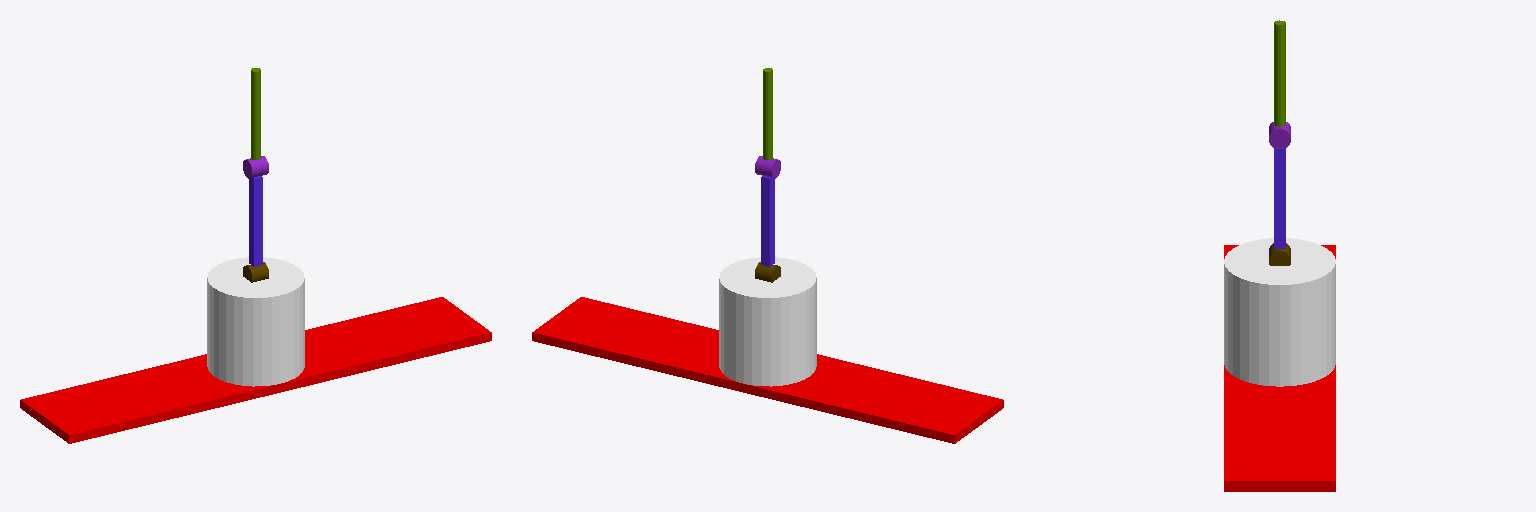
robot.urdf — pi_robot:
<?xml version="1.0"?>

<robot name="pi_robot">

	<!-- * * * Link Definitions * * * -->

 	<link name="base_link">
		<visual>
		    <origin xyz="0 0 0" rpy="0 0 0"/>
			<geometry>
				<box size="5 1 0.1"/>
			</geometry>
			<material name="Cyan1">
	       		<color rgba="1 0 0 1.0"/>
	     	</material>
		</visual>	
	</link>
	
 	<link name="ana_govde_link">
		<visual>
		    <origin xyz="0 0 0.05" rpy="0 0 0"/>
			<geometry>
				<cylinder radius="0.5" length="1"/>
			</geometry>
			<material name="Red">
	       		<color rgba="1 1 1 1.0"/>
	     	</material>
		</visual>	
	</link>
	
	 <link name="donme1_link">
		<visual>
		    <origin xyz="0 0 0" rpy="0 0 0"/>
			<geometry>
				<cylinder radius="0.1" length="0.2"/>
			</geometry>
			<material name="Red">
	       		<color rgba="0.4 0.3 0 1.0"/>
	     	</material>
		</visual>	
	</link>
	
	
	
	<link name="alt_kol_link">
		<visual>
		    <origin xyz="0 0 0" rpy="0 0 0"/>
			<geometry>
				<box size="0.1 0.1 1"/>
			</geometry>
			<material name="Blue">
	       		<color rgba="0.4 0.2 1 1.0"/>
	     	</material>
		</visual>	
	</link>
	
	<link name="donme2_link">
		<visual>
		    <origin xyz="0 0 0" rpy="0 0 0"/>
			<geometry>
				<cylinder radius="0.1" length="0.2"/>
			</geometry>
			<material name="Red">
	       		<color rgba="0.6 0.21 0.8 1.0"/>
	     	</material>
		</visual>	
	</link>
	

  	<link name="ust_kol_link">
		<visual>
			<origin xyz="0 0 0" rpy="0 0 1"/>
			<geometry>
				<cylinder radius="0.05" length="1"/>
			</geometry>
	     	<material name="Green">
				<color rgba="0.4 0.6 0 0"/>
			</material>
	   </visual>
	</link>

	
	<!-- * * * Joint Definitions * * * -->
	
	<joint name="ana_govde_joint" type="prismatic">
    	<parent link="base_link"/>
    	<child link="ana_govde_link"/>
    	<origin xyz="0 0 0.5" rpy="0 0 0"/>
		<axis xyz="1 0 0"/>
		<limit lower="-3.1416" upper="3.1416" effort="10" velocity="3"/>
	</joint>
	
	<joint name="donme1_joint" type="revolute">
    	<parent link="ana_govde_link"/>
    	<child link="donme1_link"/>
    	<origin xyz="0 0 0.6" rpy="0 1.57 0"/>
		<axis xyz="0 0 1"/>
		<limit lower="-3.1416" upper="3.1416" effort="10" velocity="3"/>
	</joint>

	<joint name="alt_kol_joint" type="fixed">
    	<parent link="donme1_link"/>
    	<child link="alt_kol_link"/>
    	<origin xyz="-0.6 0 0" rpy="0 -1.57 0"/>	
	</joint>
	
	<joint name="donme2_joint" type="revolute">
    	<parent link="alt_kol_link"/>
    	<child link="donme2_link"/>
    	<origin xyz="0 0 0.6" rpy="0 1.57 0"/>
		<axis xyz="0 0 1"/>
		<limit lower="-3.1416" upper="3.1416" effort="10" velocity="3"/>
	</joint>

	<joint name="ust_kol_joint" type="fixed">
    	<parent link="donme2_link"/>
    	<child link="ust_kol_link"/>
    	<origin xyz="-0.6 0 0" rpy="0 -1.57 0"/>
	</joint>
	

</robot>

--- What the picture shows (computed from the rendered views, not written in the file) ---
Views: 3 orthographic renders of the robot side by side, from view 1: azimuth 30°, elevation 25°; view 2: azimuth 150°, elevation 25°; view 3: azimuth 270°, elevation 25°.
Robot: pi_robot — 6 links, 5 joints (2 revolute, 1 prismatic, 2 fixed); root link base_link; default pose: all joints at 0.
Visible links, largest first — view 1: base_link, ana_govde_link, alt_kol_link, ust_kol_link; view 2: base_link, ana_govde_link, alt_kol_link, ust_kol_link; view 3: ana_govde_link, base_link, ust_kol_link, alt_kol_link.
Boxes of the visible links, left/top/right/bottom form: base_link: left=20, top=297, right=491, bottom=443; ana_govde_link: left=207, top=257, right=304, bottom=386; alt_kol_link: left=249, top=176, right=262, bottom=266; ust_kol_link: left=251, top=68, right=260, bottom=159; base_link: left=532, top=297, right=1003, bottom=443; ana_govde_link: left=719, top=257, right=816, bottom=386; alt_kol_link: left=761, top=176, right=774, bottom=266; ust_kol_link: left=763, top=68, right=772, bottom=159; ana_govde_link: left=1224, top=238, right=1335, bottom=386; base_link: left=1224, top=245, right=1335, bottom=491; ust_kol_link: left=1274, top=20, right=1285, bottom=126; alt_kol_link: left=1274, top=148, right=1285, bottom=248.
Size in the robot's own frame: 5 by 1 by 3.45 metres.
Geometry: primitives only (box / cylinder / sphere), no mesh files.
